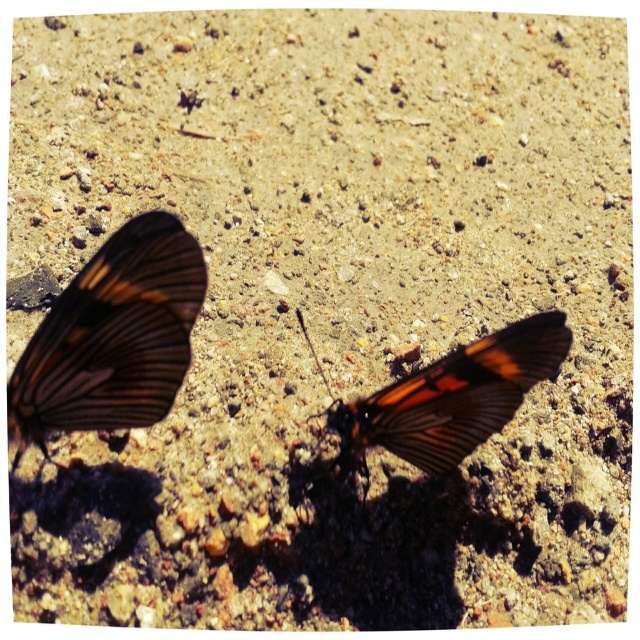Butterfly: (0, 209, 214, 479), (298, 305, 575, 494)
